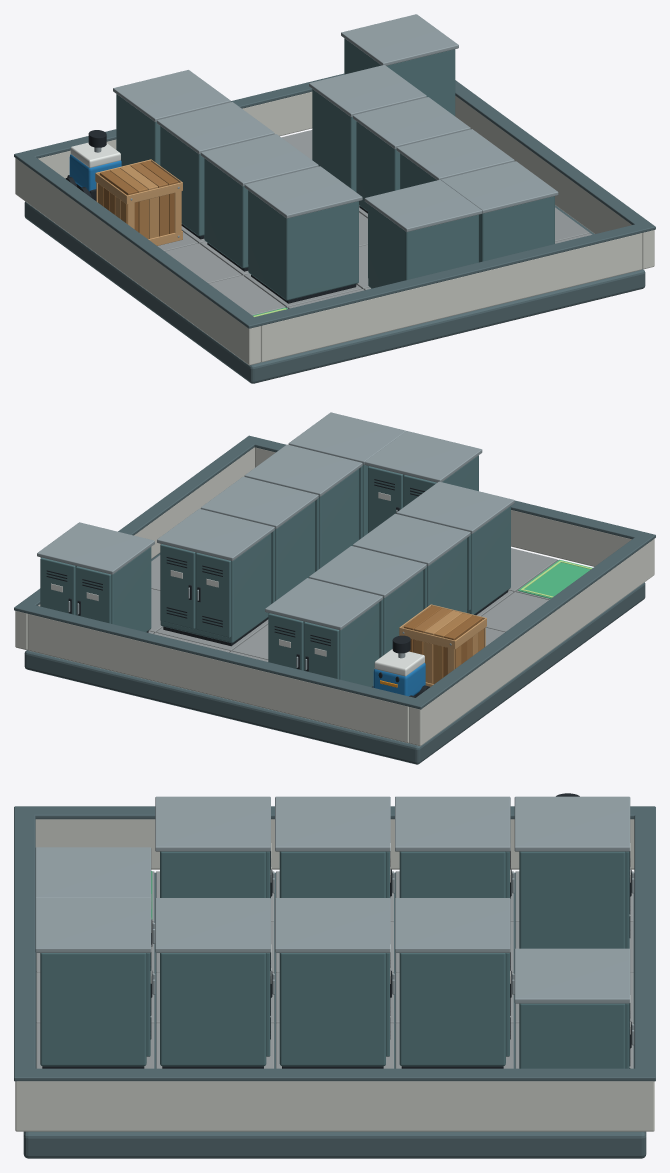
3 views of the same model, one above another, from view 1: azimuth 30°, elevation 25°; view 2: azimuth 150°, elevation 25°; view 3: azimuth 270°, elevation 25° (orthographic). The views are drawn at different scales.
Parts seen in each view (by area): view 1: Cutaway wall.002, obstacle_0, Floor foundation, obstacle_4, Cutaway wall, obstacle_1, obstacle_5, obstacle_8, obstacle_9, obstacle_2, obstacle_7, obstacle_3 (+13 smaller); view 2: Cutaway wall.003, obstacle_8, Floor foundation, obstacle_9, obstacle_3, Cutaway wall, obstacle_0, obstacle_6, obstacle_7, obstacle_4, obstacle_1, obstacle_2 (+14 smaller); view 3: Cutaway wall.001, Floor foundation, obstacle_5, obstacle_8, obstacle_7, obstacle_6, obstacle_3, obstacle_9, obstacle_1, obstacle_2, obstacle_0, Wall coping.001 (+5 smaller).
Boxes of the visible parts, box(x1,y1,x2,y2) form: Cutaway wall.002: box(261, 233, 642, 362); obstacle_0: box(244, 166, 362, 303); Floor foundation: box(24, 201, 645, 383); obstacle_4: box(364, 180, 482, 288); Cutaway wall: box(15, 158, 260, 365); obstacle_1: box(200, 134, 318, 271); obstacle_5: box(441, 161, 558, 262); obstacle_8: box(309, 65, 426, 191); obstacle_9: box(341, 14, 458, 115); obstacle_2: box(157, 102, 274, 239); obstacle_7: box(353, 97, 470, 213); obstacle_3: box(113, 70, 230, 166); Cutaway wall.003: box(27, 614, 408, 743); obstacle_8: box(157, 508, 274, 646); Floor foundation: box(24, 553, 645, 764); obstacle_9: box(37, 522, 154, 632); obstacle_3: box(265, 578, 382, 687); Cutaway wall: box(409, 539, 654, 746); obstacle_0: box(396, 481, 514, 615); obstacle_6: box(244, 444, 362, 571); obstacle_7: box(200, 476, 318, 603); obstacle_4: box(364, 431, 482, 532); obstacle_1: box(353, 513, 470, 612); obstacle_2: box(309, 546, 426, 657); Cutaway wall.001: box(15, 1081, 654, 1131); Floor foundation: box(23, 872, 646, 1158); obstacle_5: box(35, 898, 155, 1068); obstacle_8: box(395, 898, 514, 1068); obstacle_7: box(275, 898, 394, 1068); obstacle_6: box(155, 898, 274, 1068); obstacle_3: box(514, 796, 634, 948); obstacle_9: box(514, 948, 634, 1068); obstacle_1: box(275, 796, 394, 897); obstacle_2: box(395, 796, 514, 898); obstacle_0: box(155, 796, 274, 898); Wall coping.001: box(14, 1068, 655, 1081).
Size of the model in its own units: 5.36 by 1.44 by 5.36.
